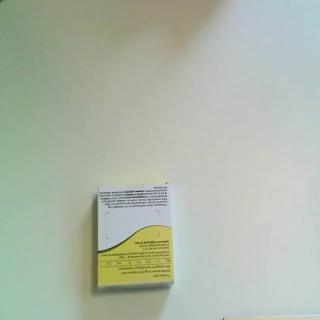buprefarm5ug_hour: (95, 179, 175, 291)
